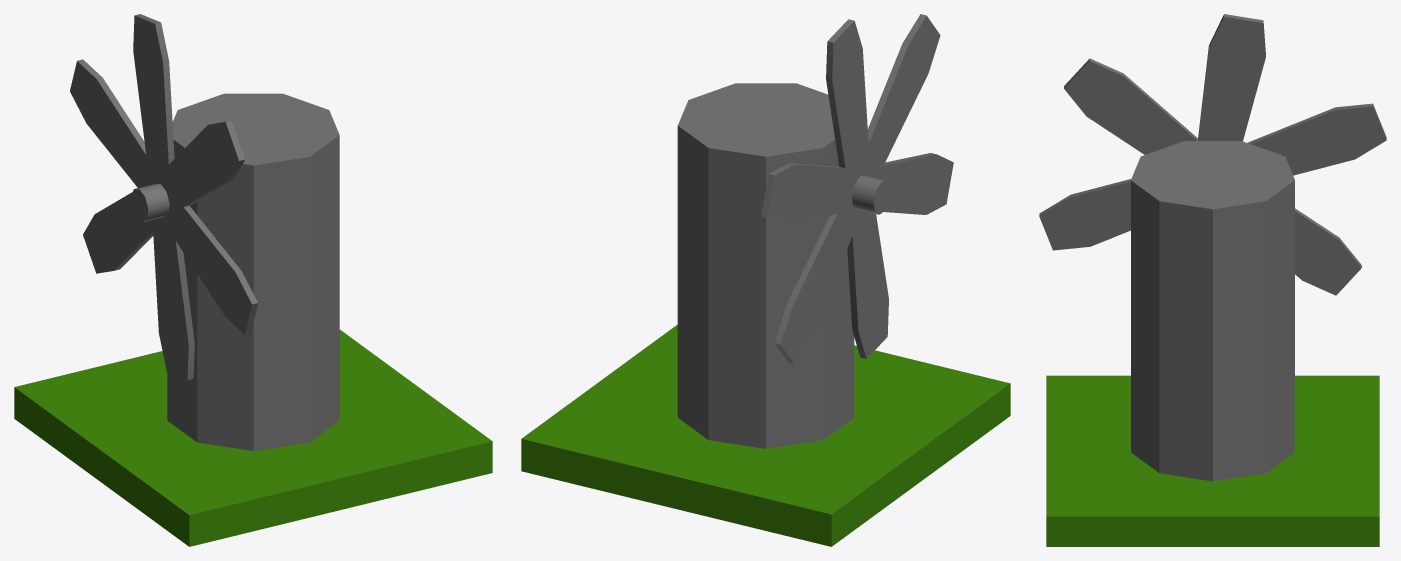
Rendered from Farm2.obj.
The picture shows the model from 3 angles, left to right: view 1: azimuth 30°, elevation 25°; view 2: azimuth 150°, elevation 25°; view 3: azimuth 270°, elevation 25°; orthographic projection. The views are drawn at different scales.
Visible parts, largest first — view 1: Tilebase109, Cylinder042, Box707, Box705, Box704, Box706, Box708, Box703, Cylinder043; view 2: Cylinder042, Tilebase109, Box703, Box707, Box706, Box704, Box708, Box705, Cylinder043; view 3: Cylinder042, Tilebase109, Box707, Box706, Box708, Box705, Box703.
Part boxes in pixels (x1,y1,x2,y2): Tilebase109: (14,329,492,546); Cylinder042: (167,93,339,450); Box707: (133,14,174,188); Box705: (163,206,257,334); Box704: (153,212,194,380); Box706: (159,120,244,213); Box708: (70,59,158,187); Box703: (83,192,163,273); Cylinder043: (131,183,169,222); Cylinder042: (677,83,854,448); Tilebase109: (521,324,1010,546); Box703: (774,190,862,364); Box707: (826,19,869,184); Box706: (859,14,940,175); Box704: (847,209,888,358); Box708: (761,163,858,225); Box705: (868,153,953,214); Cylinder043: (852,175,891,214); Cylinder042: (1131,141,1294,481); Tilebase109: (1046,375,1379,546); Box707: (1198,14,1265,141); Box706: (1064,58,1197,154); Box708: (1247,103,1386,175); Box705: (1039,179,1130,250); Box703: (1295,208,1361,295).
Size of the model in its own units: 10 by 13.87 by 10.41.
